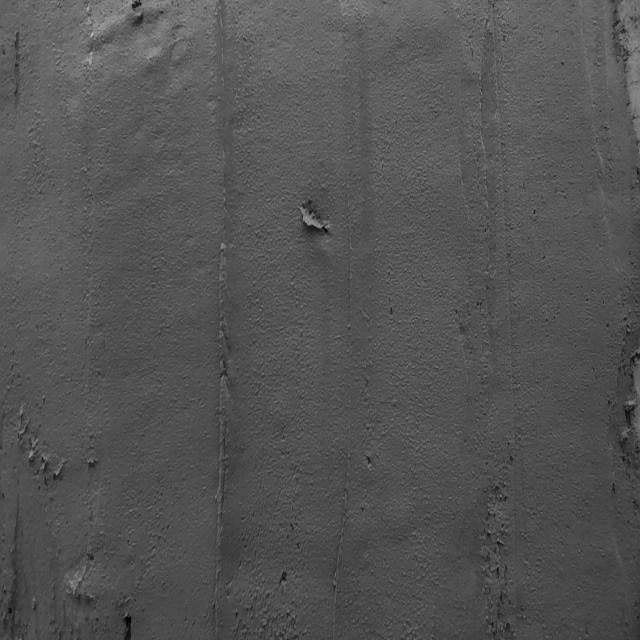trowels marks: (484, 0, 524, 639), (209, 0, 234, 637), (325, 172, 357, 640), (58, 548, 103, 616), (10, 20, 27, 114), (82, 424, 105, 486)
